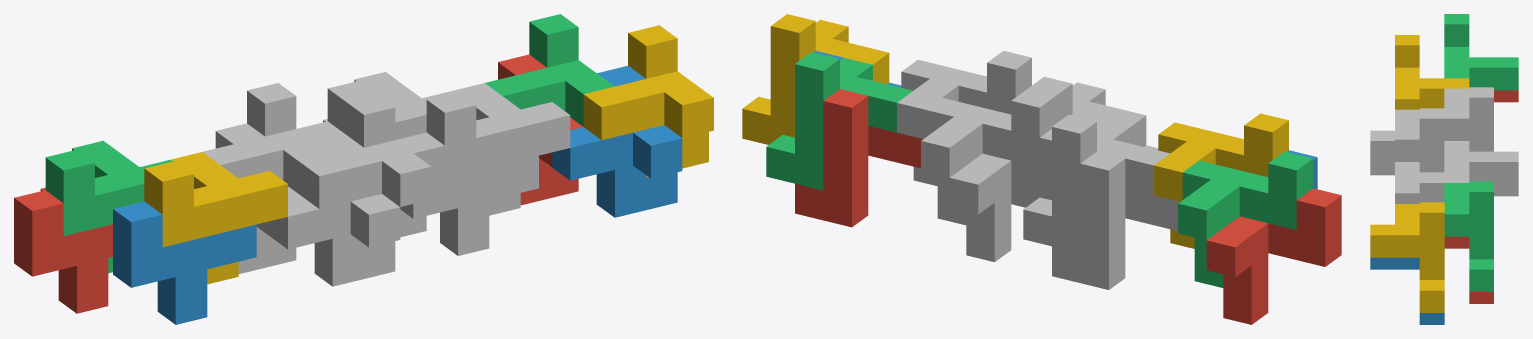
The model's file is tiling.obj.
3 renders of one model, left to right at view 1: azimuth 30°, elevation 25°; view 2: azimuth 150°, elevation 25°; view 3: azimuth 270°, elevation 25°, orthographic. The views are drawn at different scales.
Parts seen in each view (by area): view 1: copy_2_domain_8, copy_1_domain_8, copy_1_domain_4, copy_2_domain_4, copy_1_domain_2, copy_2_domain_6, copy_2_domain_2, copy_1_domain_1, copy_1_domain_6, copy_1_domain_3, copy_2_domain_3, copy_2_domain_7 (+4 smaller); view 2: copy_1_domain_1, copy_1_domain_3, copy_1_domain_7, copy_2_domain_5, copy_2_domain_1, copy_2_domain_7, copy_2_domain_3, copy_2_domain_8, copy_1_domain_5, copy_1_domain_4, copy_1_domain_8, copy_2_domain_4; view 3: copy_2_domain_8, copy_2_domain_7, copy_1_domain_3, copy_1_domain_7, copy_2_domain_4, copy_1_domain_4, copy_1_domain_8, copy_2_domain_3, copy_2_domain_6, copy_2_domain_5, copy_1_domain_1, copy_1_domain_5 (+1 smaller).
Part boxes in pixels (box(x1,y1,x2,y2)): copy_2_domain_8: box(583, 25, 713, 177); copy_1_domain_8: box(426, 83, 570, 215); copy_1_domain_4: box(144, 152, 287, 284); copy_2_domain_4: box(301, 94, 431, 245); copy_1_domain_2: box(113, 201, 256, 324); copy_2_domain_6: box(552, 66, 682, 217); copy_2_domain_2: box(270, 134, 400, 286); copy_1_domain_1: box(14, 187, 112, 313); copy_1_domain_6: box(395, 132, 538, 255); copy_1_domain_3: box(45, 140, 173, 273); copy_2_domain_3: box(203, 83, 332, 234); copy_2_domain_7: box(485, 14, 614, 165); copy_1_domain_1: box(1206, 188, 1341, 324); copy_1_domain_3: box(1178, 151, 1313, 287); copy_1_domain_7: box(921, 89, 1056, 225); copy_2_domain_5: box(795, 89, 922, 227); copy_2_domain_1: box(1052, 151, 1179, 289); copy_2_domain_7: box(766, 52, 912, 190); copy_2_domain_3: box(1023, 115, 1169, 252); copy_2_domain_8: box(742, 14, 889, 144); copy_1_domain_5: box(949, 129, 1051, 262); copy_1_domain_4: box(1154, 113, 1288, 248); copy_1_domain_8: box(897, 50, 1031, 186); copy_2_domain_4: box(1011, 76, 1146, 207); copy_2_domain_8: box(1370, 202, 1444, 312); copy_2_domain_7: box(1444, 181, 1493, 291); copy_1_domain_3: box(1444, 14, 1518, 90); copy_1_domain_7: box(1444, 108, 1518, 184); copy_2_domain_4: box(1370, 108, 1444, 172); copy_1_domain_4: box(1395, 35, 1469, 109); copy_1_domain_8: box(1395, 129, 1469, 203); copy_2_domain_3: box(1444, 87, 1493, 151); copy_2_domain_6: box(1370, 257, 1444, 324); copy_2_domain_5: box(1444, 236, 1493, 303); copy_1_domain_1: box(1494, 90, 1518, 102); copy_1_domain_5: box(1494, 184, 1518, 196).
Size of the model in its own units: 21 by 5 by 6.
